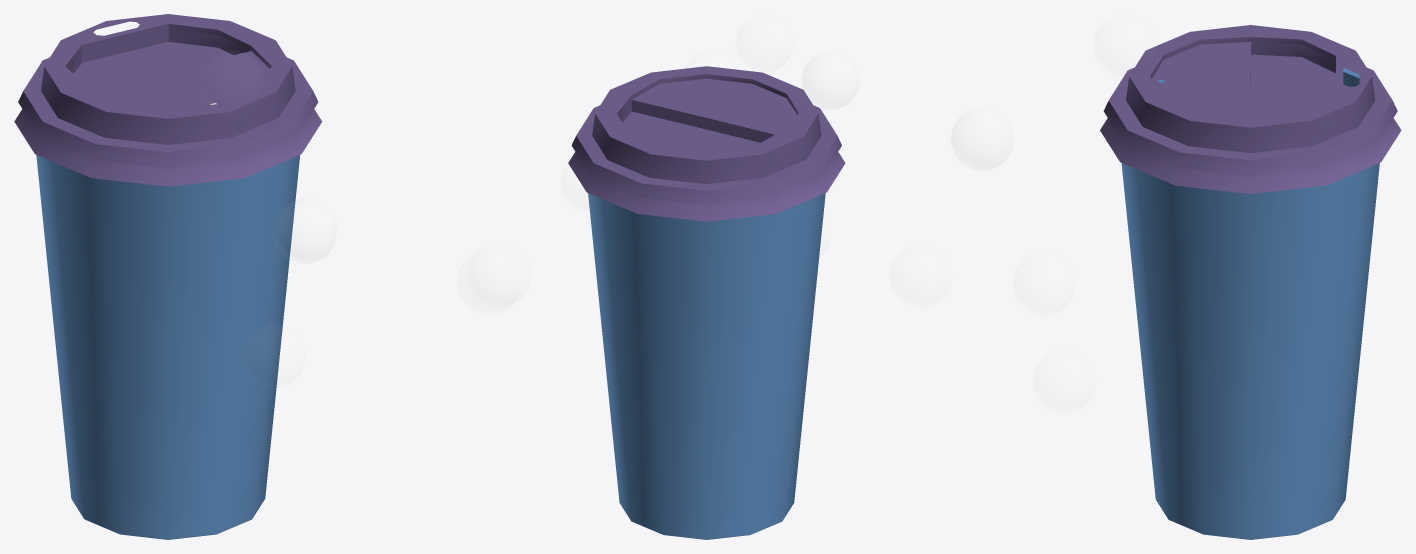
File: coffee.gltf
The picture shows the model from 3 angles, left to right: view 1: azimuth 30°, elevation 25°; view 2: azimuth 150°, elevation 25°; view 3: azimuth 270°, elevation 25°; orthographic projection. The views are drawn at different scales.
Visible parts, largest first — view 1: cup, cap; view 2: cup, cap; view 3: cup, cap.
Boxes of the visible parts, x1,y1,x2,y2 form: cup: (36,155,299,539); cap: (14,14,322,186); cup: (588,193,825,539); cap: (568,66,845,221); cup: (1121,68,1379,539); cap: (1100,25,1401,193).
Bounding box in the file's own units: 13.81 × 16.81 × 16.18.
